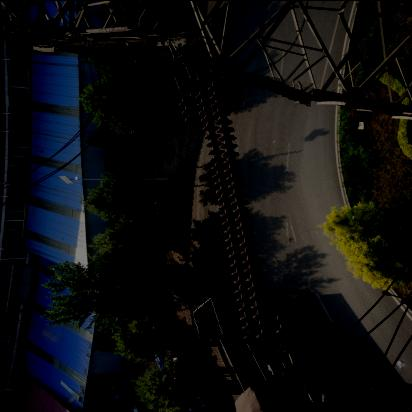insulator: (166, 69, 306, 345)
